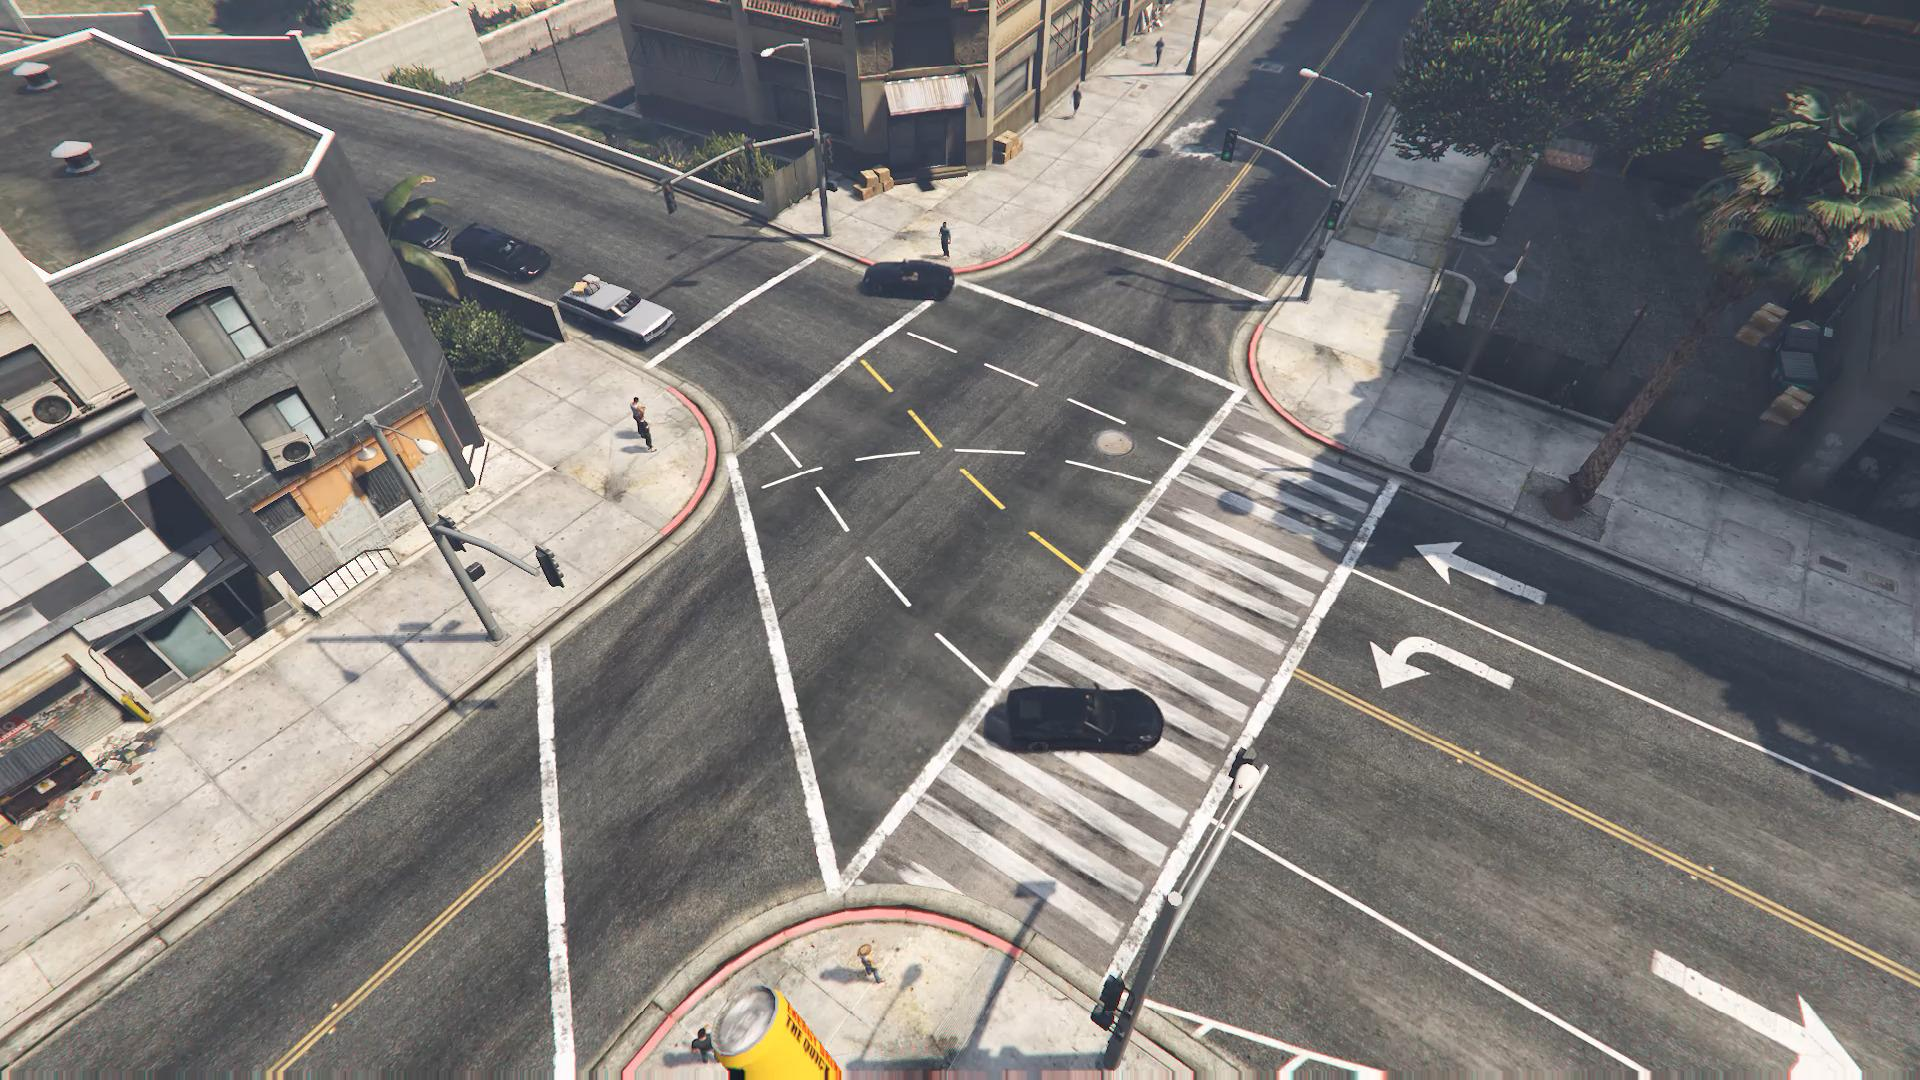car: (982, 684, 1164, 756), (556, 272, 675, 345), (450, 222, 551, 281), (858, 258, 953, 302), (390, 214, 448, 252)
